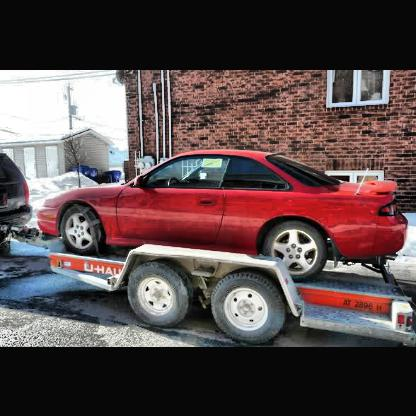Nissan 240SX Coupe 1998: (38, 151, 408, 281)
